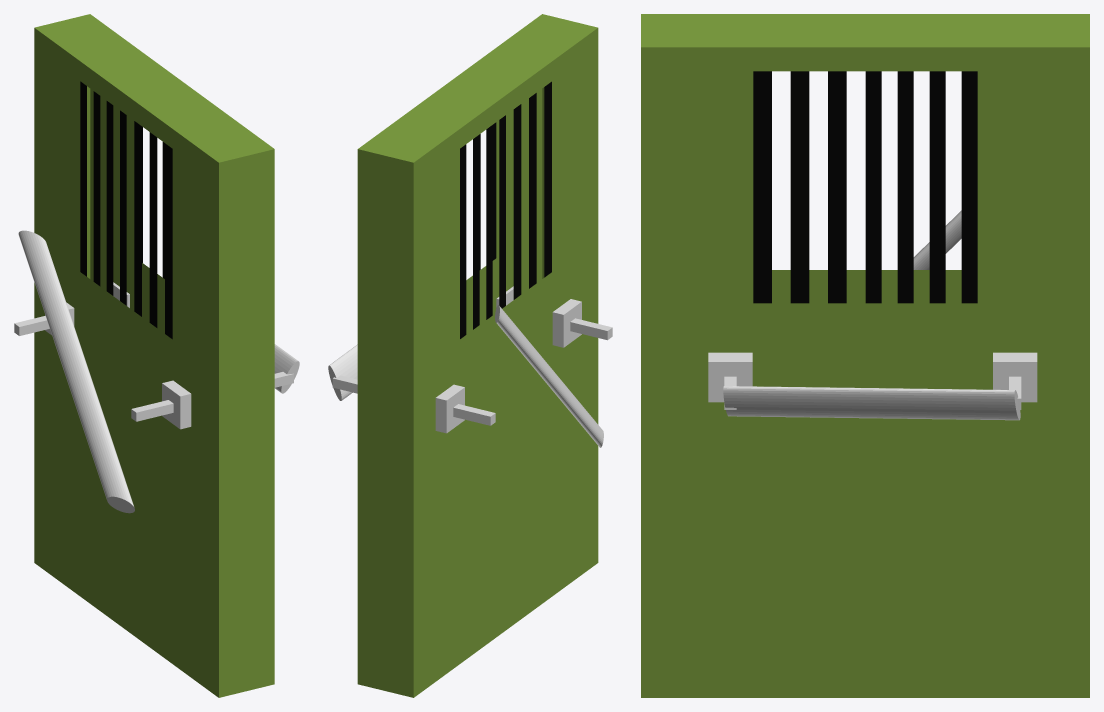
The model's file is LevelDoor.fbx.
3 views of the same model, side by side, from view 1: azimuth 30°, elevation 25°; view 2: azimuth 150°, elevation 25°; view 3: azimuth 270°, elevation 25° (orthographic). The views are drawn at different scales.
Visible parts, largest first — view 1: Level-Door, LevelDoorHandle.004, LevelDoorHandle.002, LevelDoorHandle.003, LevelDoorHandle.005; view 2: Level-Door, LevelDoorHandle.004, LevelDoorHandle.005, LevelDoorHandle.002, LevelDoorHandle.003; view 3: Level-Door, LevelDoorHandle.003, LevelDoorHandle, LevelDoorHandle.001, LevelDoorHandle.004.
Boxes of the visible parts, bbox=[...] form: Level-Door: bbox=[34, 14, 274, 697]; LevelDoorHandle.004: bbox=[18, 230, 134, 513]; LevelDoorHandle.002: bbox=[131, 380, 191, 429]; LevelDoorHandle.003: bbox=[274, 344, 299, 393]; LevelDoorHandle.005: bbox=[14, 302, 74, 335]; Level-Door: bbox=[357, 14, 598, 697]; LevelDoorHandle.004: bbox=[495, 305, 603, 447]; LevelDoorHandle.005: bbox=[435, 384, 495, 433]; LevelDoorHandle.002: bbox=[552, 299, 612, 347]; LevelDoorHandle.003: bbox=[328, 344, 357, 400]; Level-Door: bbox=[641, 14, 1089, 697]; LevelDoorHandle.003: bbox=[723, 386, 1020, 420]; LevelDoorHandle: bbox=[993, 352, 1037, 409]; LevelDoorHandle.001: bbox=[708, 352, 752, 409]; LevelDoorHandle.004: bbox=[913, 210, 961, 269].
Bounding box in the file's own units: 219 × 640 × 400.
